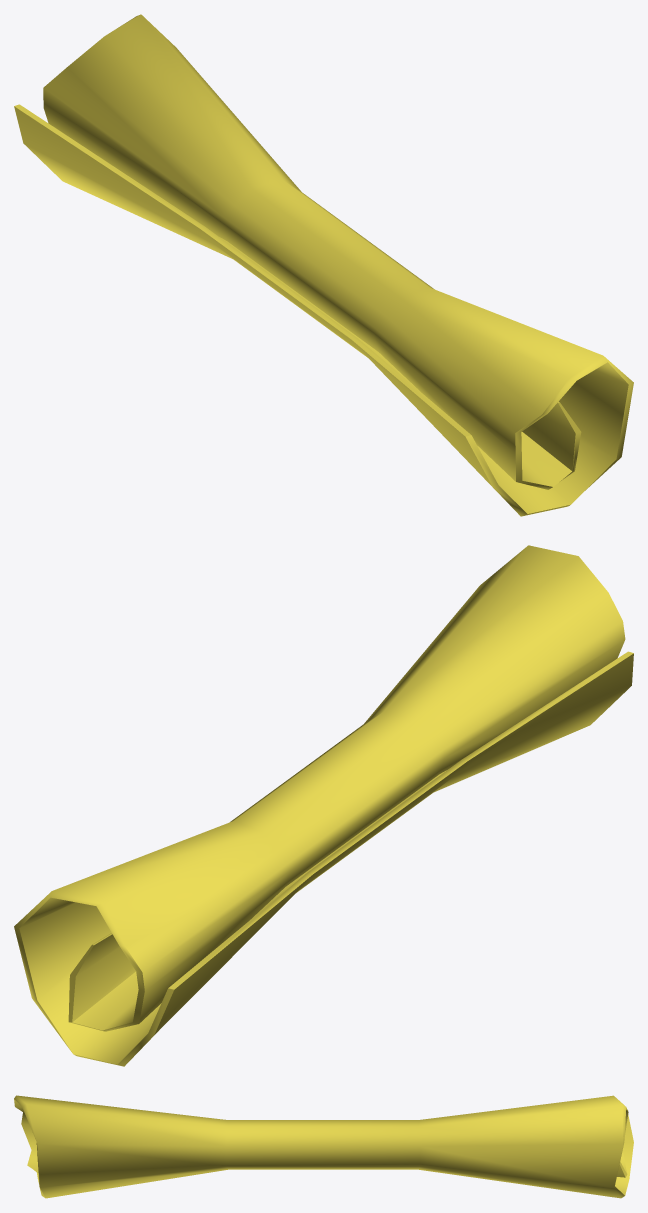
The model's file is YeşilKagit.fbx.
The picture shows the model from 3 angles, top to bottom: view 1: azimuth 30°, elevation 25°; view 2: azimuth 150°, elevation 25°; view 3: azimuth 270°, elevation 25°; orthographic projection. The views are drawn at different scales.
Visible parts, largest first — view 1: Kağıt; view 2: Kağıt; view 3: Kağıt.
Boxes of the visible parts, <box> form: Kağıt: <box>14,14,633,516</box>; Kağıt: <box>14,545,633,1066</box>; Kağıt: <box>14,1095,633,1198</box>.
Size of the model in its own units: 261 by 245 by 1366.
